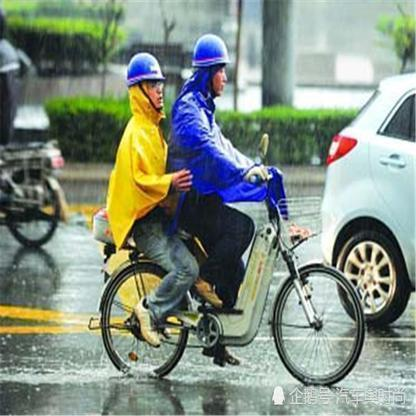target: (86, 33, 368, 391)
